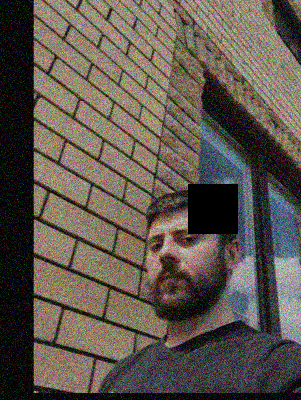without_mask: (144, 220, 211, 321)
